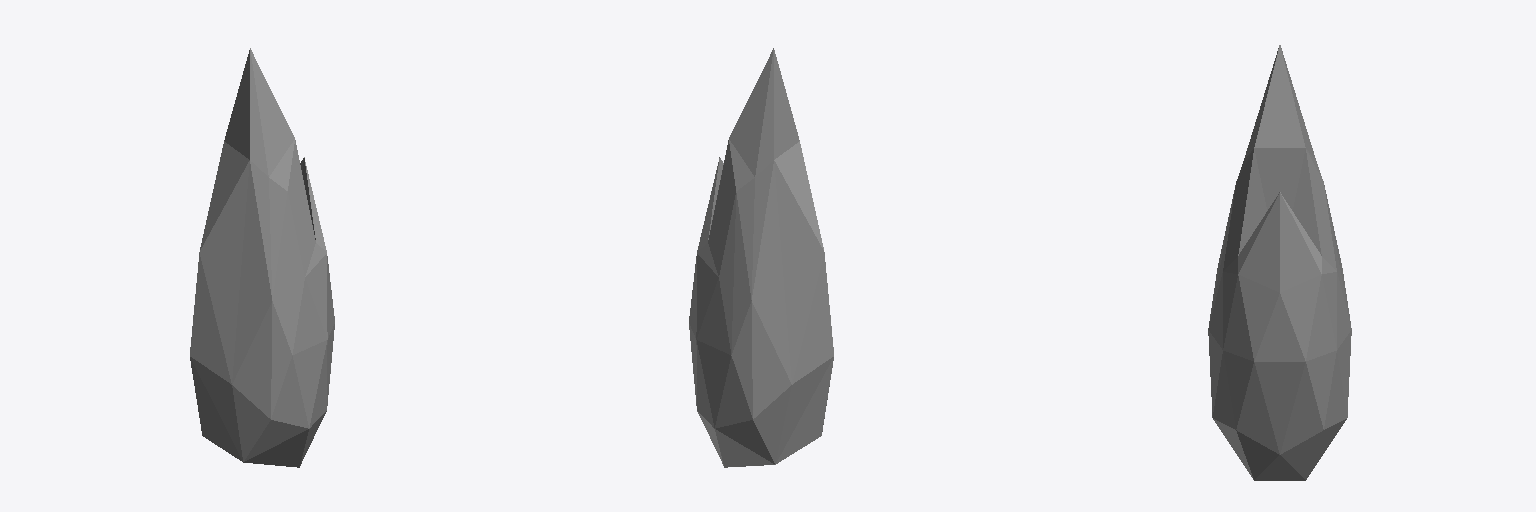
The model's file is fire.obj.
3 views of the same model, side by side, from view 1: azimuth 30°, elevation 25°; view 2: azimuth 150°, elevation 25°; view 3: azimuth 270°, elevation 25° (orthographic).
Visible parts, largest first — view 1: Icosphere; view 2: Icosphere; view 3: Icosphere.
Boxes of the visible parts, box(x1,y1,x2,y2) form: Icosphere: box(190, 48, 334, 467); Icosphere: box(689, 48, 833, 467); Icosphere: box(1208, 45, 1351, 480).
Size of the model in its own units: 3.04 by 9.18 by 2.85.